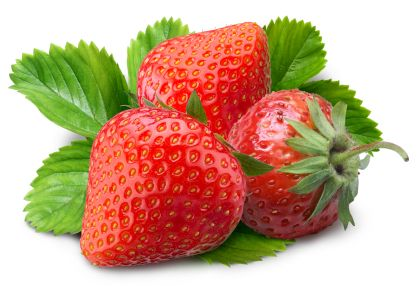strawberry: (82, 112, 234, 277), (235, 93, 362, 233), (133, 25, 274, 130)
